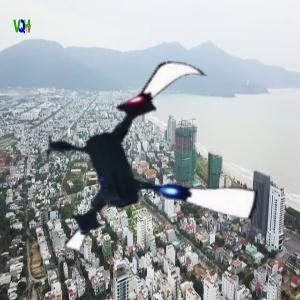drone: (33, 45, 265, 277)
